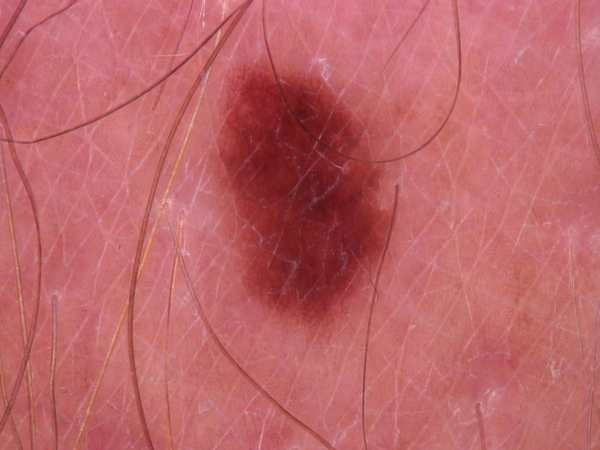Detected Lesion: (211, 62, 401, 331)
